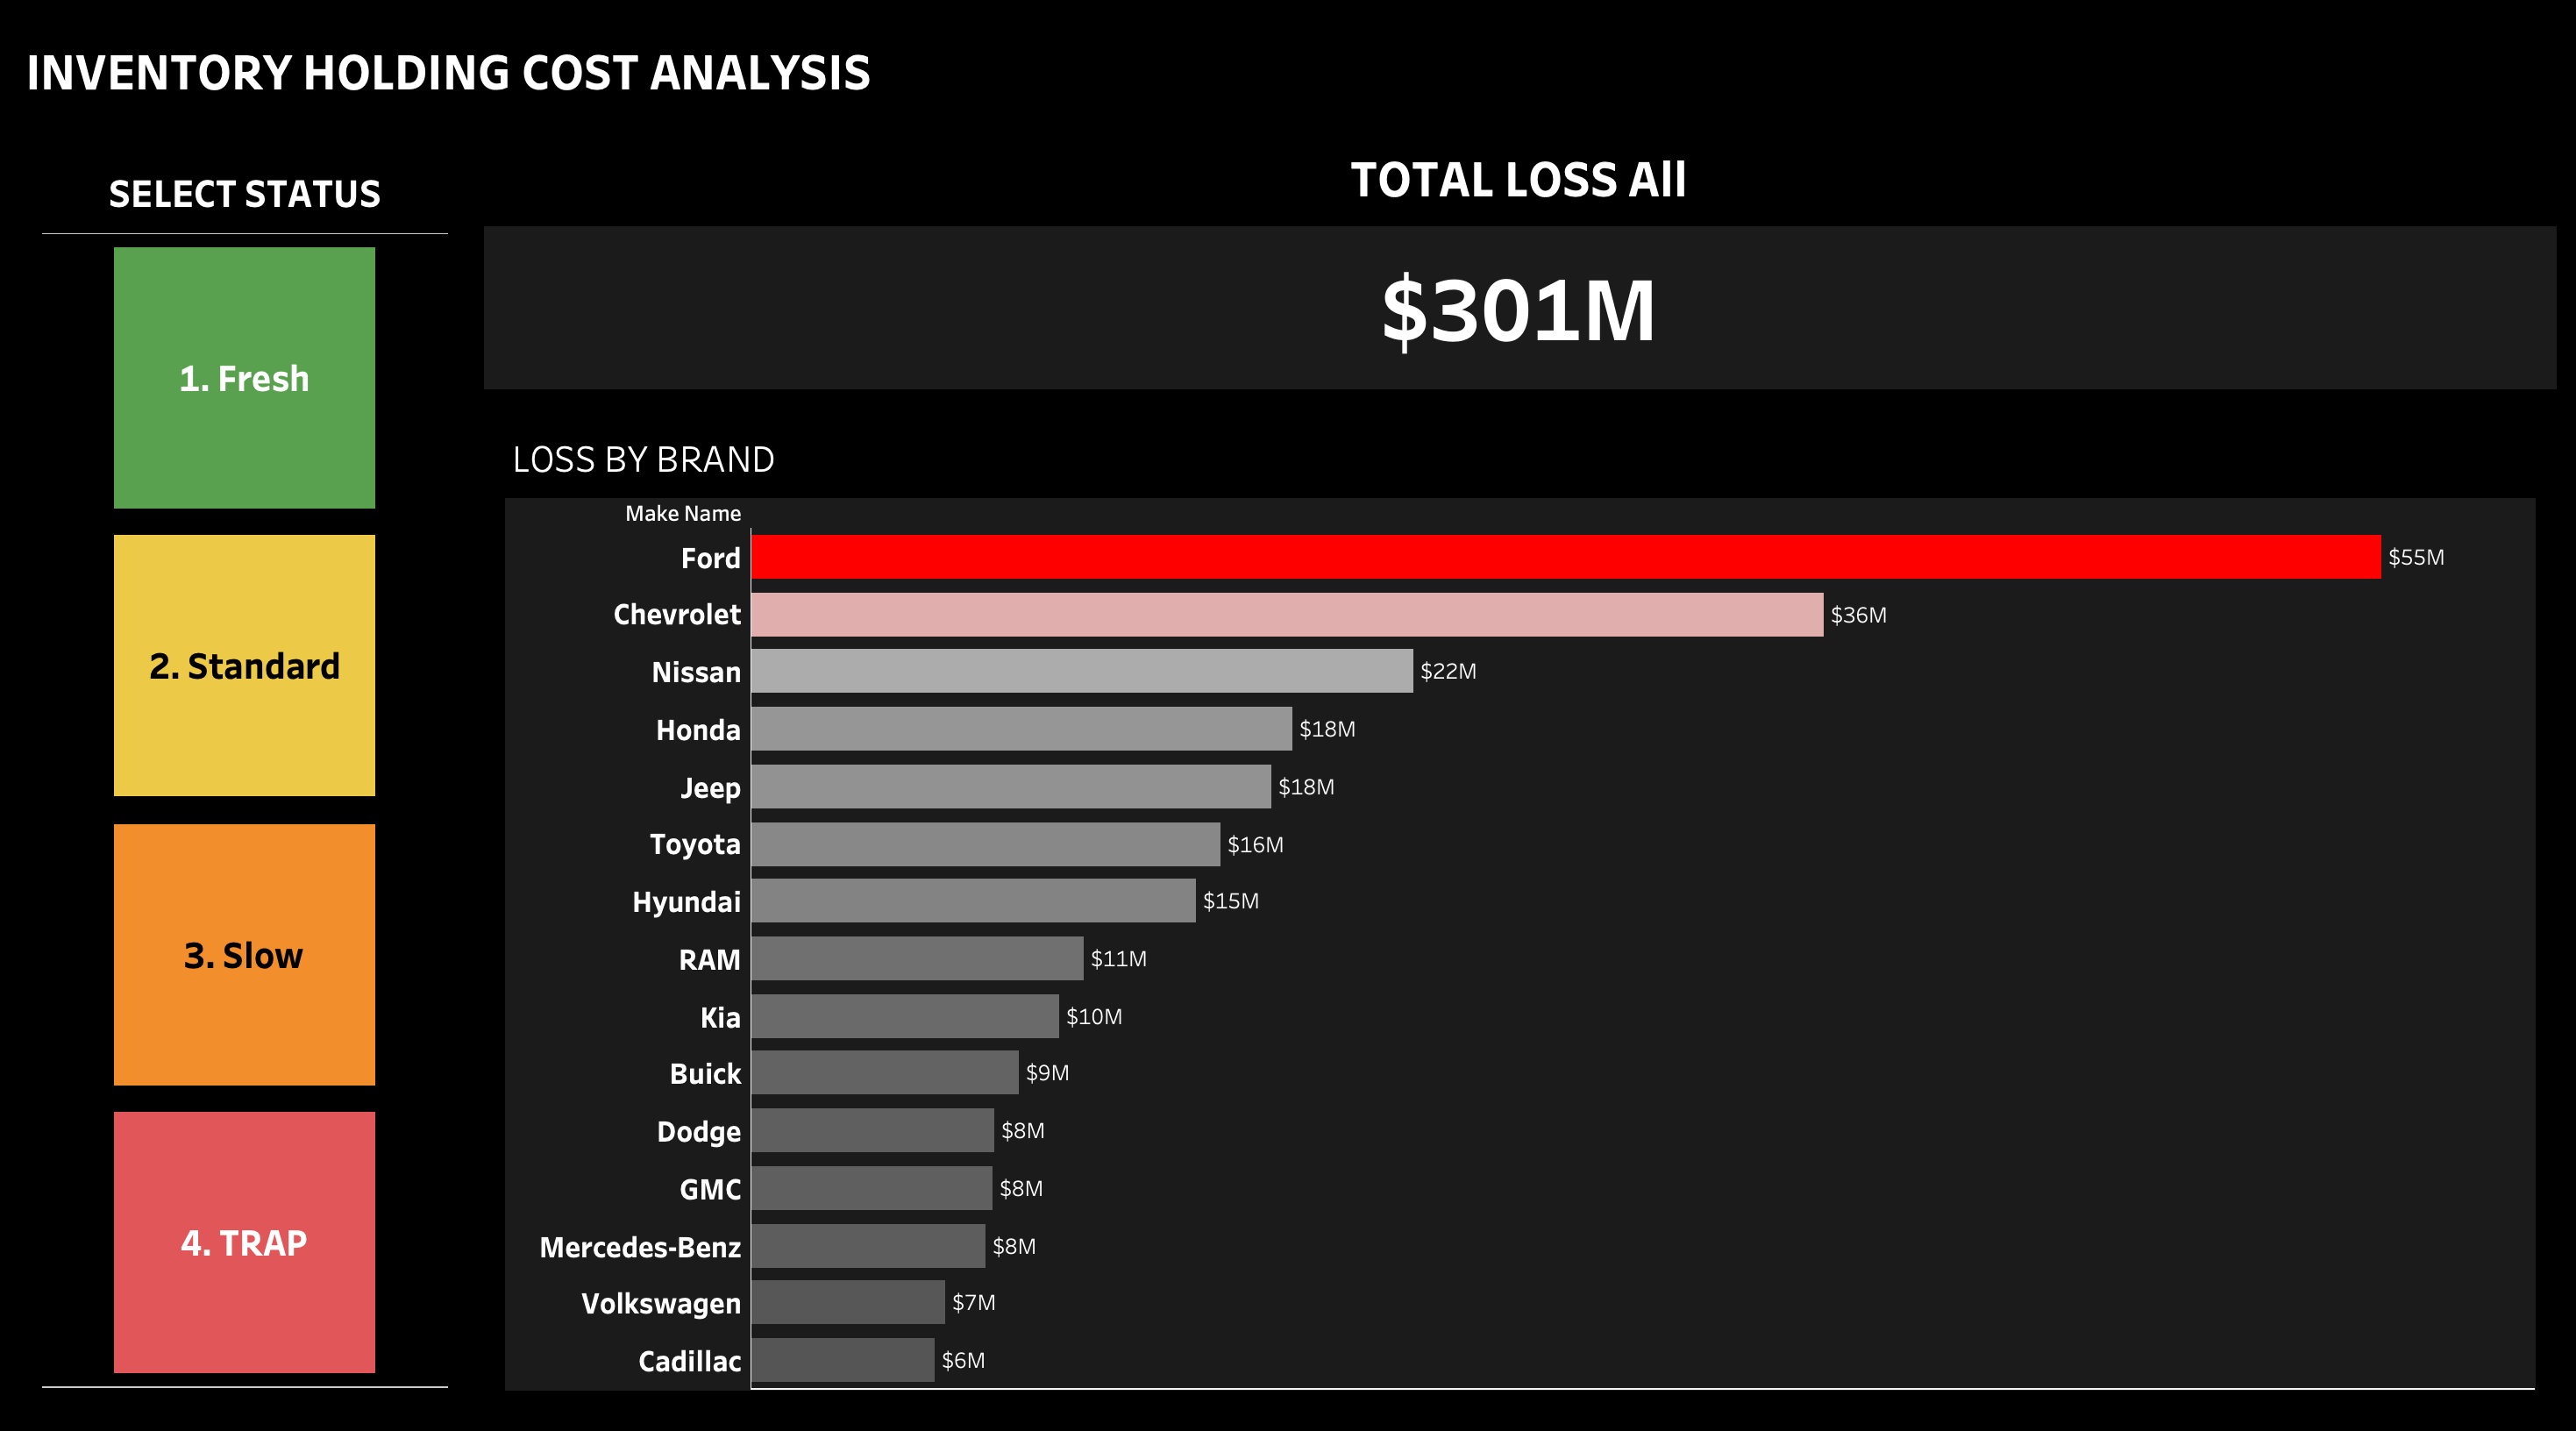

What the dashboard file says about the page in this screenshot:
{"tool":"tableau","page":{"name":"Dashboard 1","canvas":[1000,1000],"units":"permille","ordinal":0},"visuals":[{"type":"text","box":[5.5,9.8,989.1,79.5]},{"type":"worksheet","title":"SELECT STATUS","mark":"Square","rows":["inventory_status"],"box":[5.5,89.2,179.7,901]},{"type":"worksheet","title":"TOTAL LOSS","mark":"Automatic","box":[185.2,89.2,809.4,186.3]},{"type":"worksheet","title":"LOSS BY BRAND","mark":"Automatic","rows":["make_name"],"cols":["holding_cost"],"box":[185.2,275.5,809.4,714.6]}]}

Visuals, with their boxes on the dashboard's canvas, which has no fixed pixel size, in thousandths of its width and height (x1, y1, x2, y2). These are canvas units, not pixel positions in the 2576x1431 screenshot, which may show the page scaled, cropped or inside an application window:
text: [left=6, top=10, right=995, bottom=89]
"SELECT STATUS" worksheet (Square marks): [left=6, top=89, right=185, bottom=990]
"TOTAL LOSS" worksheet: [left=185, top=89, right=995, bottom=276]
"LOSS BY BRAND" worksheet: [left=185, top=276, right=995, bottom=990]
